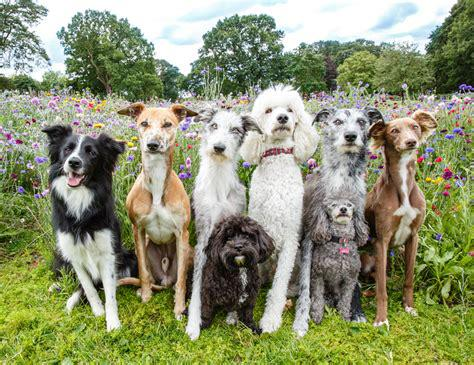dog: (293, 106, 383, 333), (43, 125, 134, 330), (245, 84, 319, 332), (113, 103, 196, 317), (187, 108, 262, 340), (368, 110, 438, 328), (204, 216, 277, 331), (311, 201, 369, 316)
